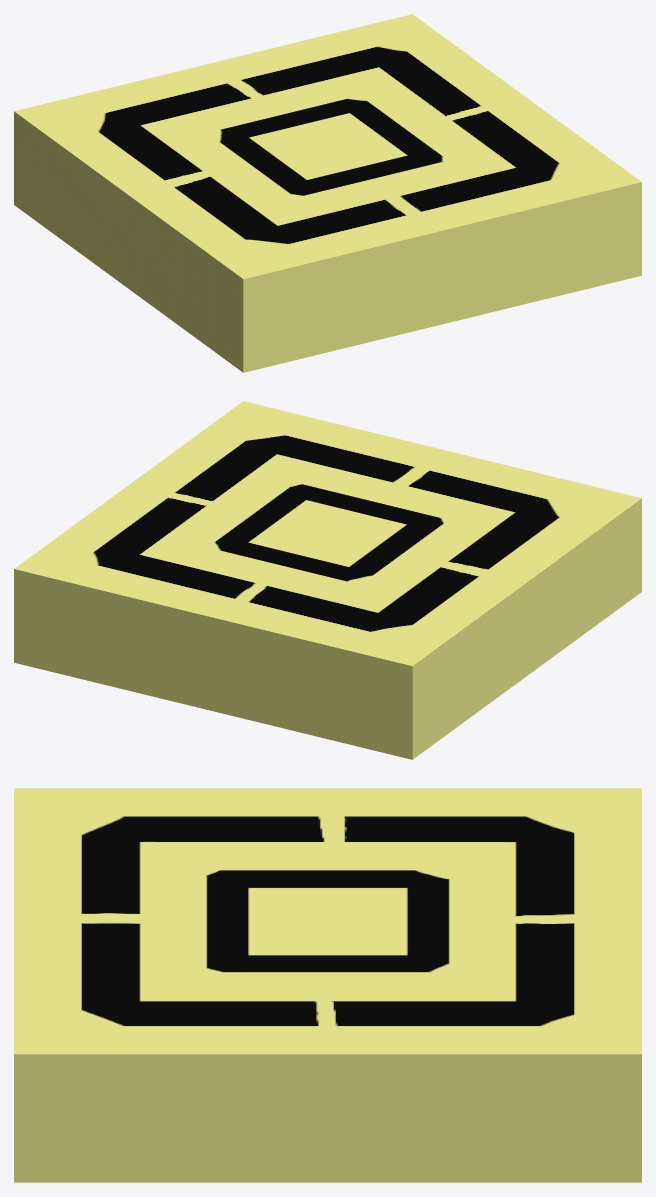
Rendered from Trampolim.fbx.
The picture shows the model from 3 angles, top to bottom: view 1: azimuth 30°, elevation 25°; view 2: azimuth 150°, elevation 25°; view 3: azimuth 270°, elevation 25°; orthographic projection. The views are drawn at different scales.
Visible parts, largest first — view 1: Cube; view 2: Cube; view 3: Cube.
Boxes of the visible parts, x1,y1,x2,y2 form: Cube: [14, 14, 641, 372]; Cube: [14, 401, 641, 759]; Cube: [14, 788, 641, 1182].
Bounding box in the file's own units: 1354 × 304 × 1351.
Materials: 1 (1 with a texture image).
